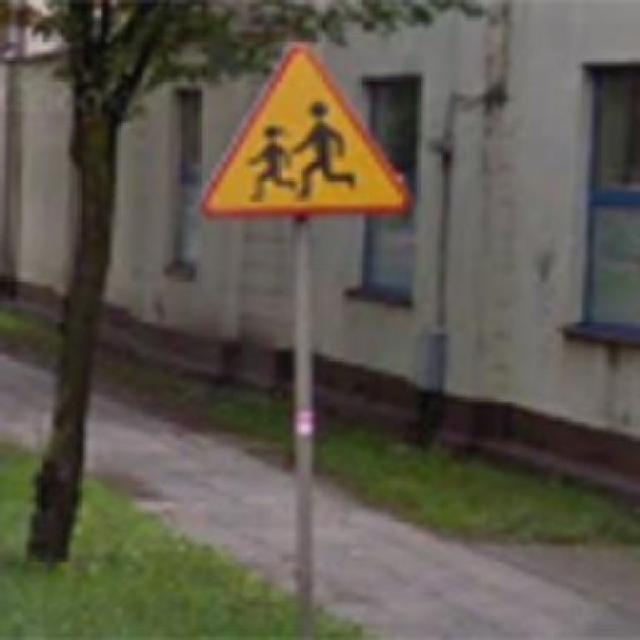Dzieci: (196, 42, 415, 220)
